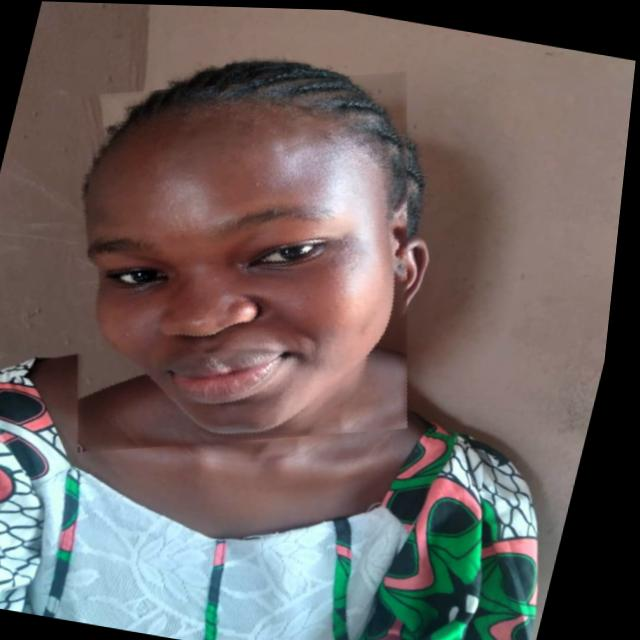happy: (21, 36, 474, 485)
